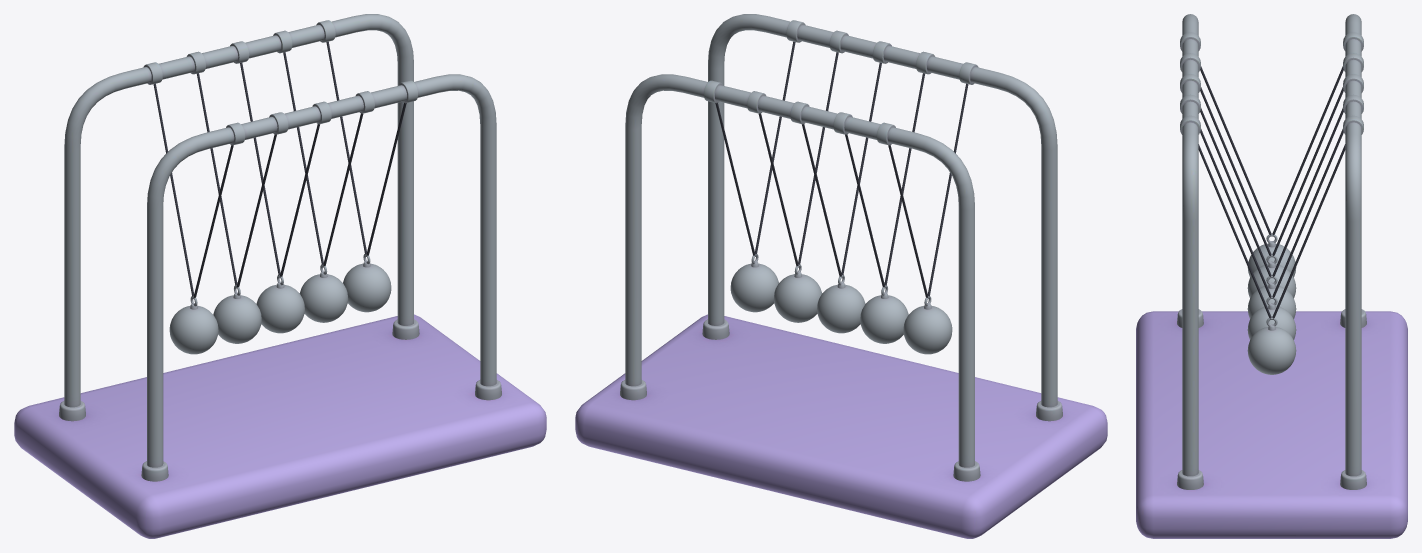
The model's file is newtons-cradle.glb.
3 views of the same model, side by side, from view 1: azimuth 30°, elevation 25°; view 2: azimuth 150°, elevation 25°; view 3: azimuth 270°, elevation 25° (orthographic).
Visible parts, largest first — view 1: newtons-cradle_body, newtons-cradle; view 2: newtons-cradle_body, newtons-cradle; view 3: newtons-cradle_body, newtons-cradle.
Boxes of the visible parts, <box> form: newtons-cradle_body: <box>14,14,546,538</box>; newtons-cradle: <box>153,41,406,354</box>; newtons-cradle_body: <box>575,14,1107,538</box>; newtons-cradle: <box>715,41,968,354</box>; newtons-cradle_body: <box>1136,14,1407,538</box>; newtons-cradle: <box>1198,66,1345,374</box>.
Size of the model in its own units: 0.24 by 0.2104 by 0.14.
6 materials, 6 textured.
